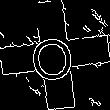O_N: (31, 27, 79, 83)
